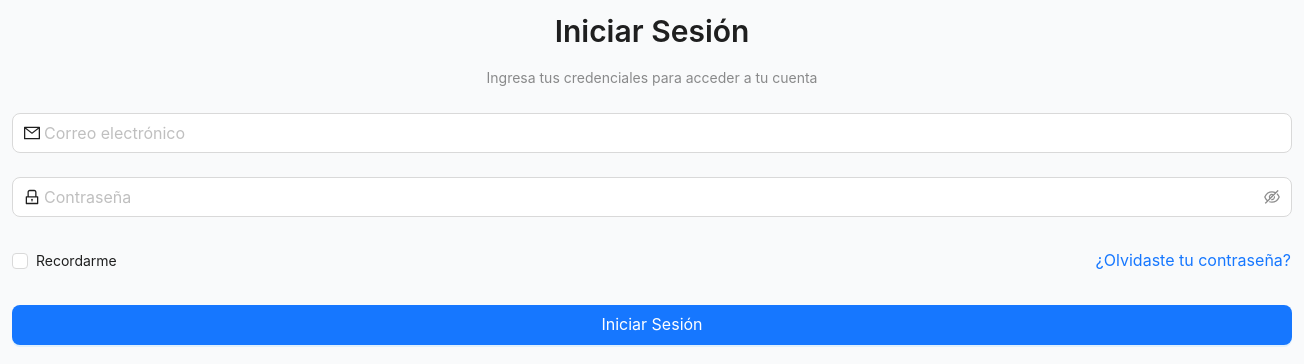
LoginForm › validates email format
This screenshot has width=1304, height=364.
Type "invalid-email" into the field with placeholder "Correo electrónico" at (662, 133), box [44,121,1280,145]
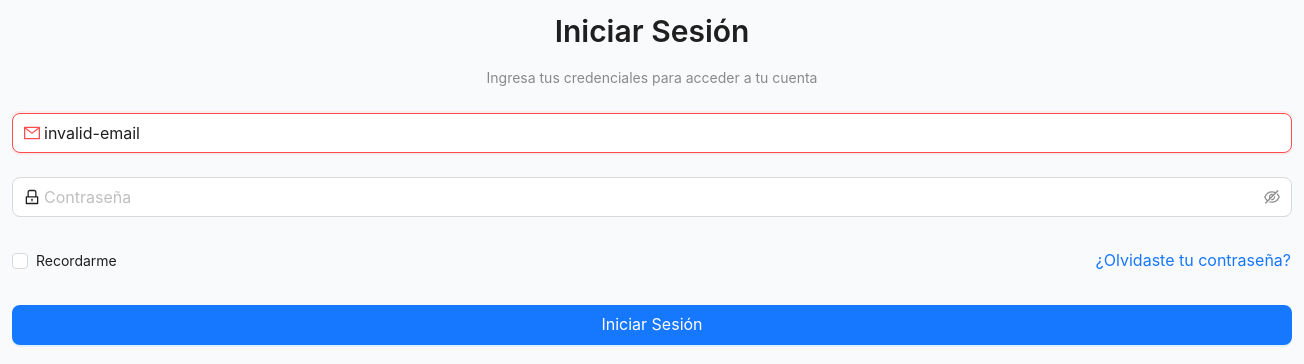
Press Tab
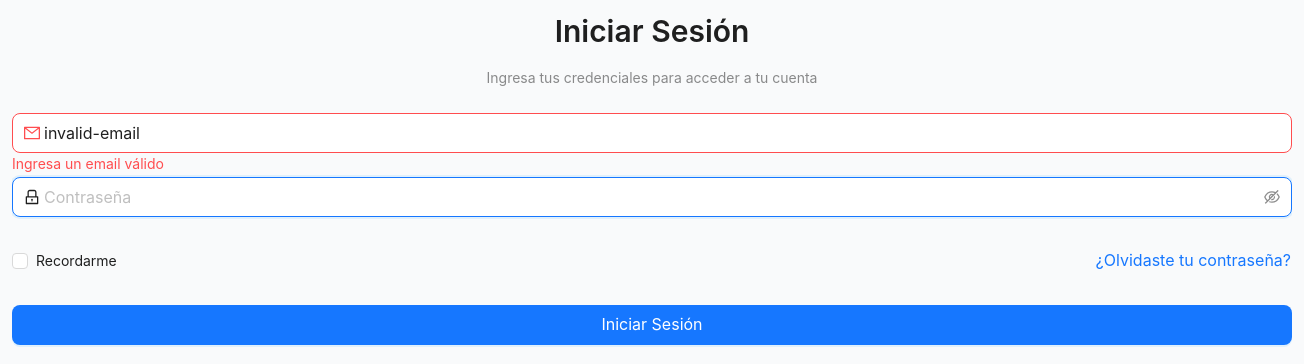
Expected: the text "Ingresa un email válido" is shown, [12,155,164,172]
